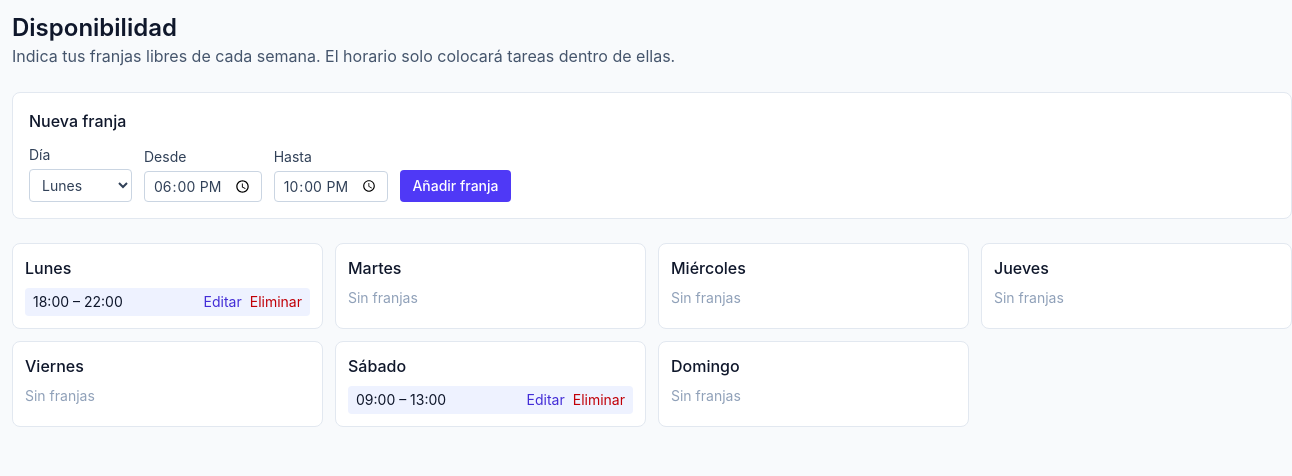
it: AvailabilityPage (US2) › valida en el cliente que la hora de fin sea posterior al inicio
Expected: the element "Lunes" is shown, [12,243,323,329]
Step 1. Clear the time field labelled "Desde" → (203, 187), box [144,171,262,202]
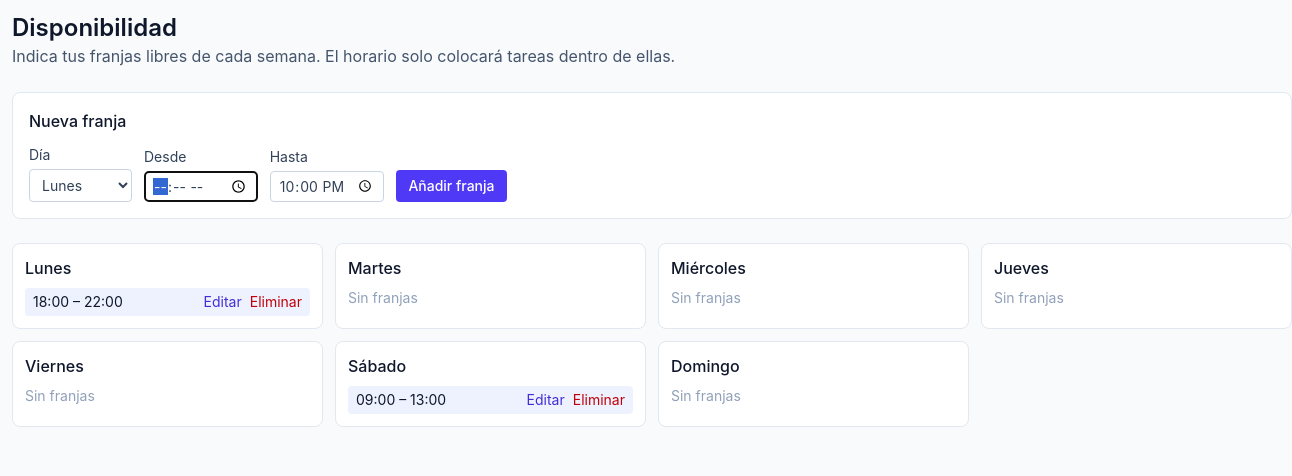
Step 2. Type "10:00" into the time field labelled "Desde" → (201, 187), box [144,171,258,202]
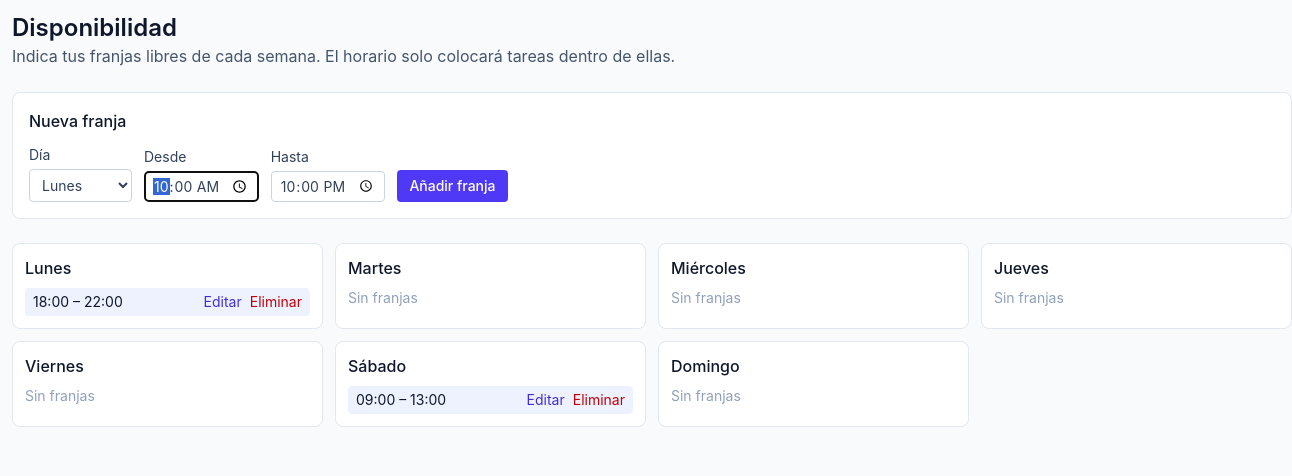
Step 3. Clear the time field labelled "Hasta" → (328, 187), box [271,171,385,202]
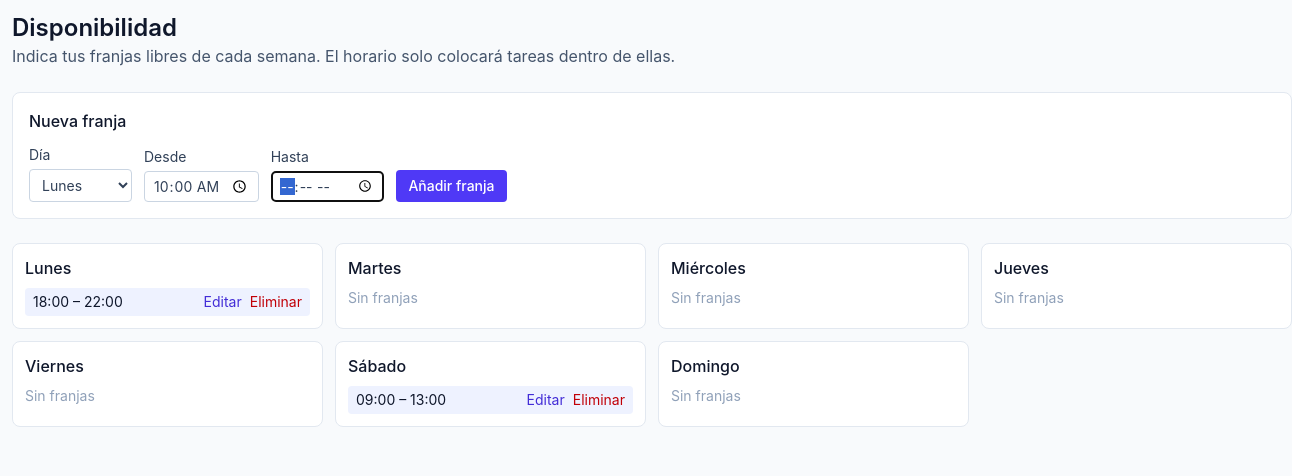
Step 4. Type "09:00" into the time field labelled "Hasta" → (328, 187), box [271,171,384,202]
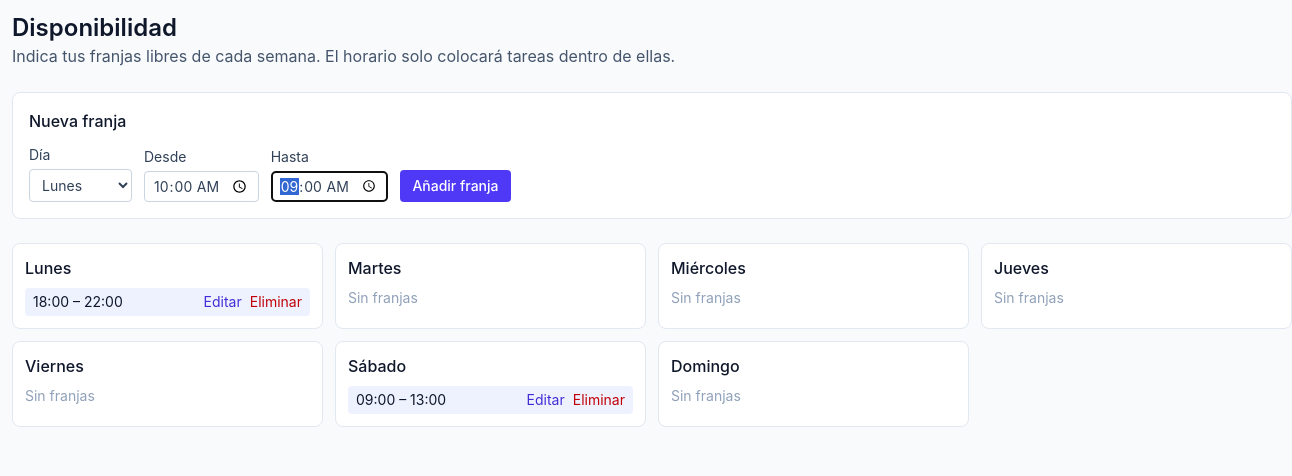
Step 5. Click the button "Añadir franja" → (455, 186), box [400,170,510,202]
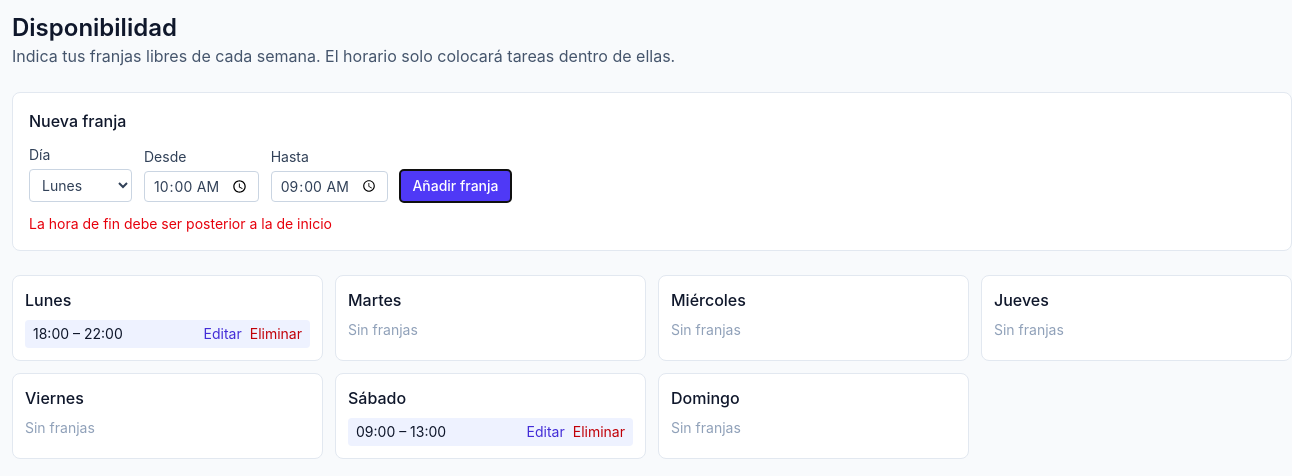
Now the text "La hora de fin debe ser posterior a la de inicio" is shown, box [29,215,332,232]
